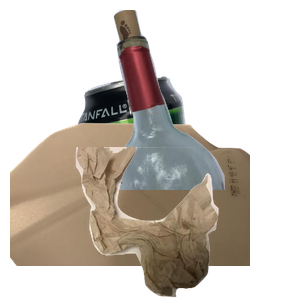glass: (89, 10, 300, 190)
metal: (74, 74, 257, 254)
plastic: (10, 120, 250, 300)
trash: (73, 147, 300, 300)
